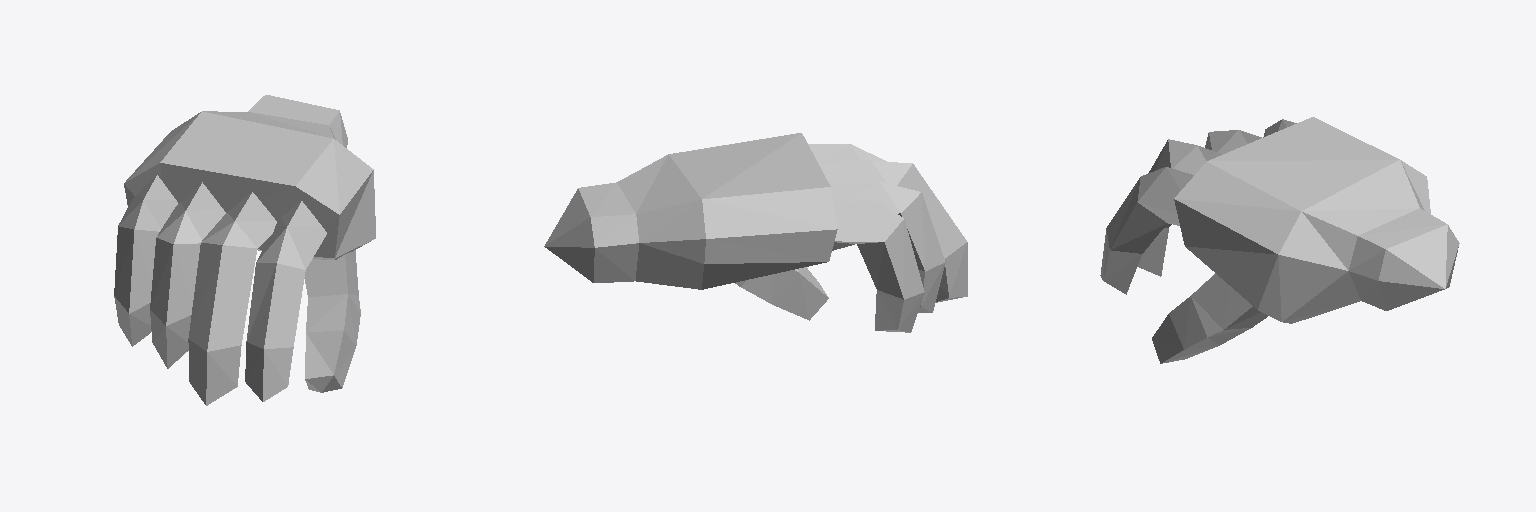
File: buzzlightyRightHand.obj
3 renders of one model, left to right at view 1: azimuth 30°, elevation 25°; view 2: azimuth 150°, elevation 25°; view 3: azimuth 270°, elevation 25°, orthographic.
Visible parts, largest first — view 1: buzzlightyRightHand_buzzlighty.017; view 2: buzzlightyRightHand_buzzlighty.017; view 3: buzzlightyRightHand_buzzlighty.017.
Boxes of the visible parts, <box> form: buzzlightyRightHand_buzzlighty.017: <box>114,95,375,405</box>; buzzlightyRightHand_buzzlighty.017: <box>544,133,967,332</box>; buzzlightyRightHand_buzzlighty.017: <box>1100,117,1459,363</box>.
Bounding box in the file's own units: 0.1068 × 0.0724 × 0.1173.